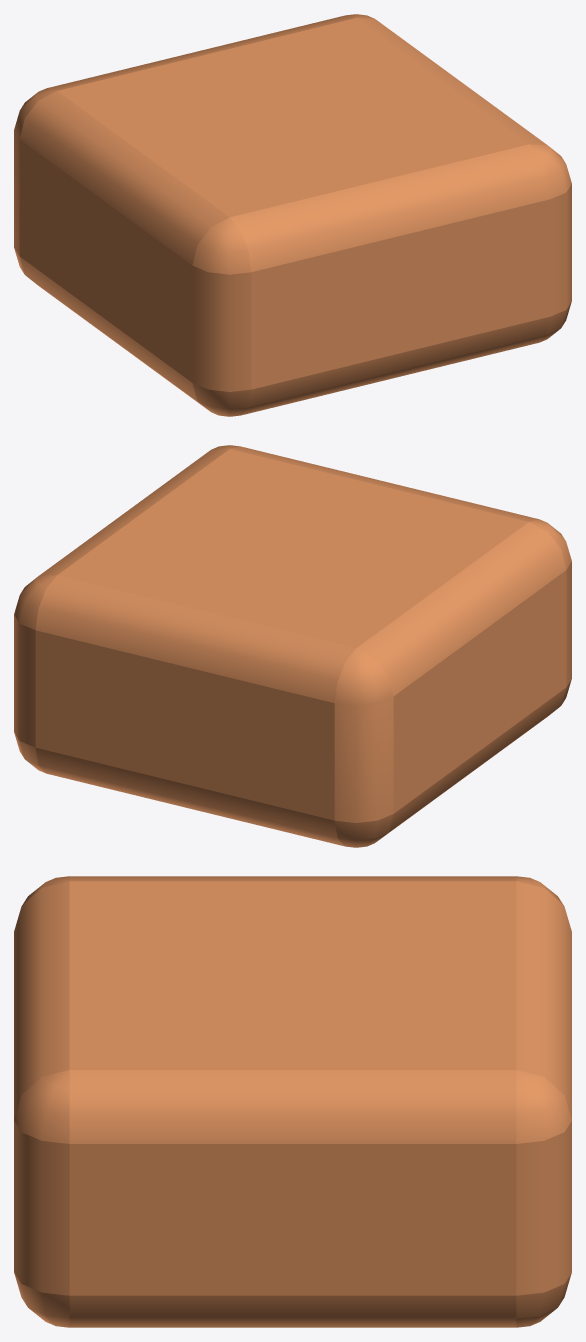
Rendered from blockRoundedLow.obj.
The picture shows the model from 3 angles, top to bottom: view 1: azimuth 30°, elevation 25°; view 2: azimuth 150°, elevation 25°; view 3: azimuth 270°, elevation 25°; orthographic projection. The views are drawn at different scales.
Visible parts, largest first — view 1: blockRoundedLow; view 2: blockRoundedLow; view 3: blockRoundedLow.
Part boxes in pixels (bbox=[...]): blockRoundedLow: bbox=[14, 14, 571, 416]; blockRoundedLow: bbox=[14, 445, 571, 847]; blockRoundedLow: bbox=[14, 876, 571, 1327].
Size of the model in its own units: 1 by 0.5 by 1.
